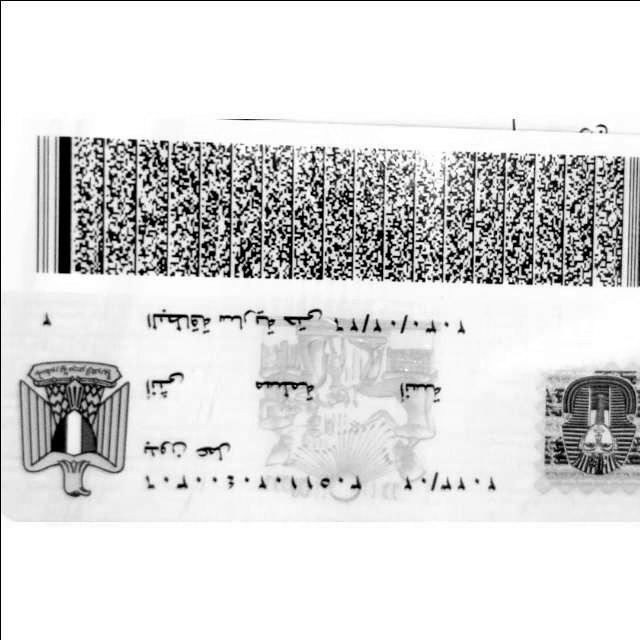id_card: (0, 118, 639, 520)
